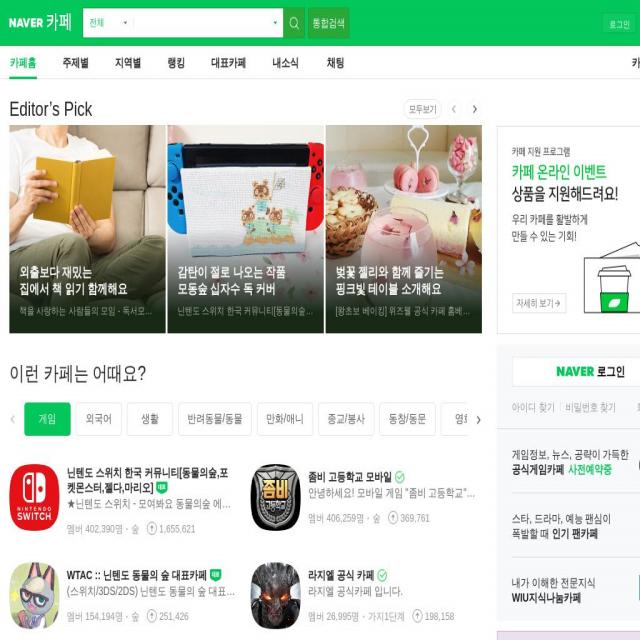navigation-blocks: (5, 124, 485, 334)
navigation-links: (1, 50, 355, 80)
posts: (6, 393, 492, 635)
search: (81, 5, 351, 42)
